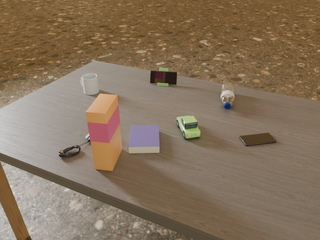book: (129, 125, 159, 153)
bottle: (221, 83, 234, 109)
box: (86, 94, 122, 171)
cup: (80, 74, 99, 95)
phone: (239, 133, 276, 146), (150, 71, 177, 85)
toy_car: (177, 116, 200, 139)
